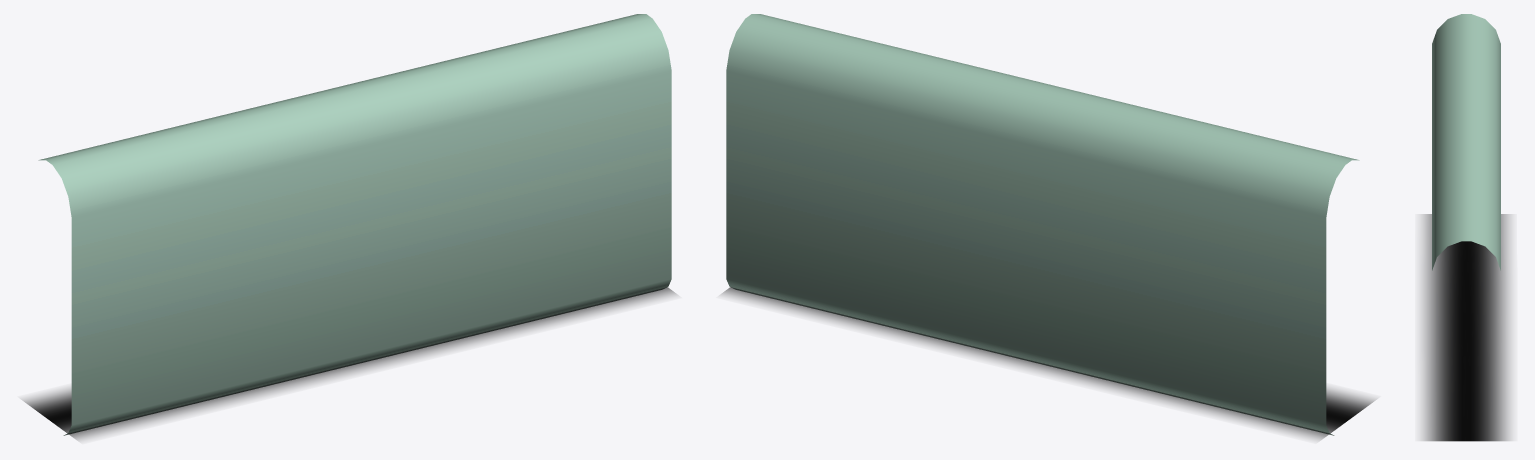
File: bwg_gate__bwg_gate.glb
3 renders of one model, left to right at view 1: azimuth 30°, elevation 25°; view 2: azimuth 150°, elevation 25°; view 3: azimuth 270°, elevation 25°, orthographic. The views are drawn at different scales.
Visible parts, largest first — view 1: polygon0, polygon1; view 2: polygon0, polygon1; view 3: polygon1, polygon0.
Part boxes in pixels (bbox=[...]): polygon0: bbox=[38, 14, 671, 435]; polygon1: bbox=[23, 287, 676, 440]; polygon0: bbox=[726, 14, 1359, 435]; polygon1: bbox=[721, 287, 1375, 439]; polygon1: bbox=[1422, 214, 1509, 441]; polygon0: bbox=[1432, 14, 1500, 270].
Bounding box in the file's own units: 5.27 × 2.21 × 1.07.
Materials: 2 (2 with a texture image).
